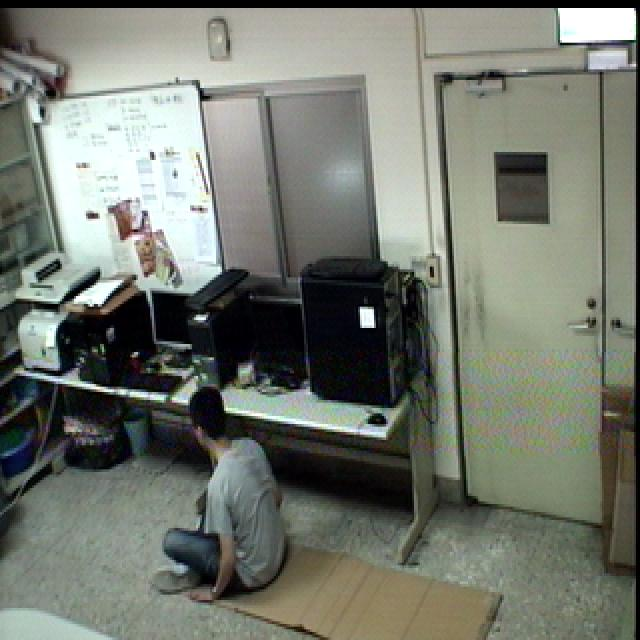sit: (155, 376, 298, 613)
